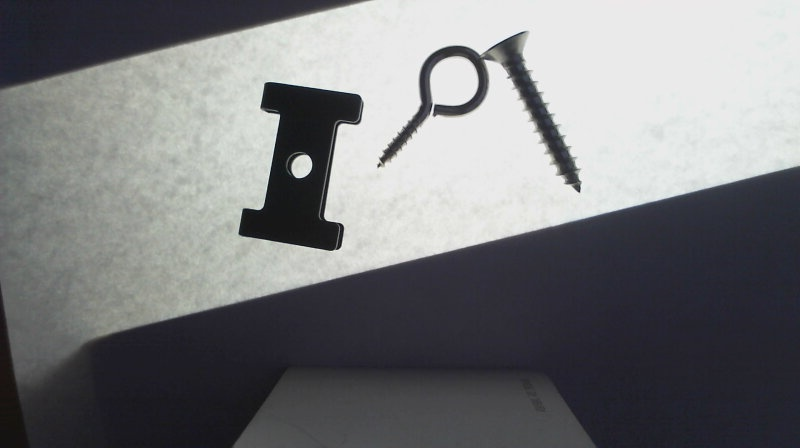O001: (371, 41, 488, 172)
O002: (235, 78, 365, 252)
S001: (482, 29, 584, 195)
